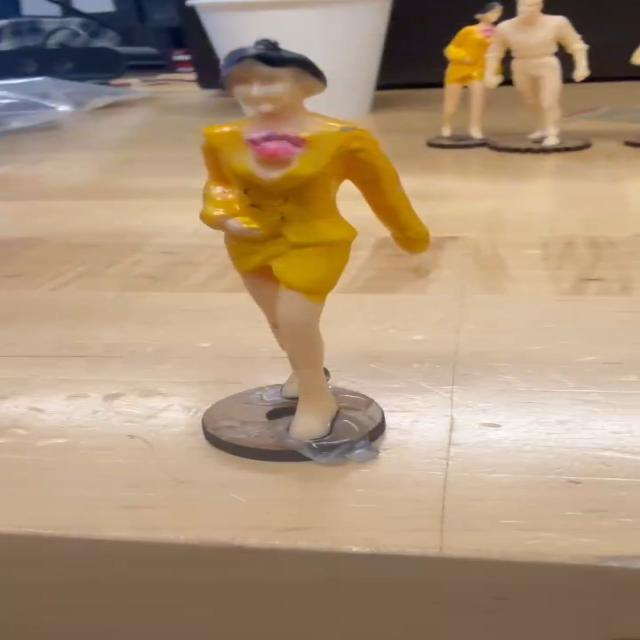Authorized: (196, 34, 449, 445)
